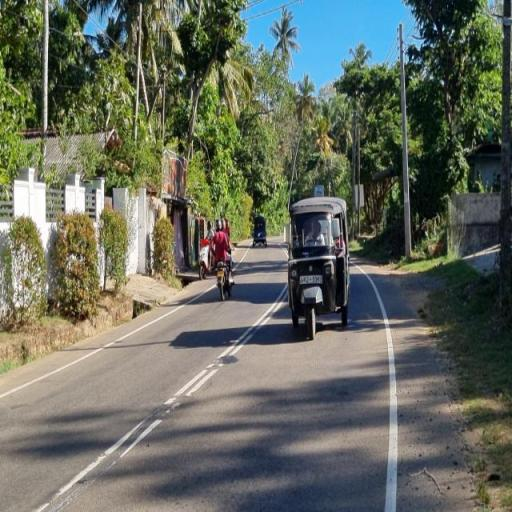double_white_line: (166, 286, 286, 411)
